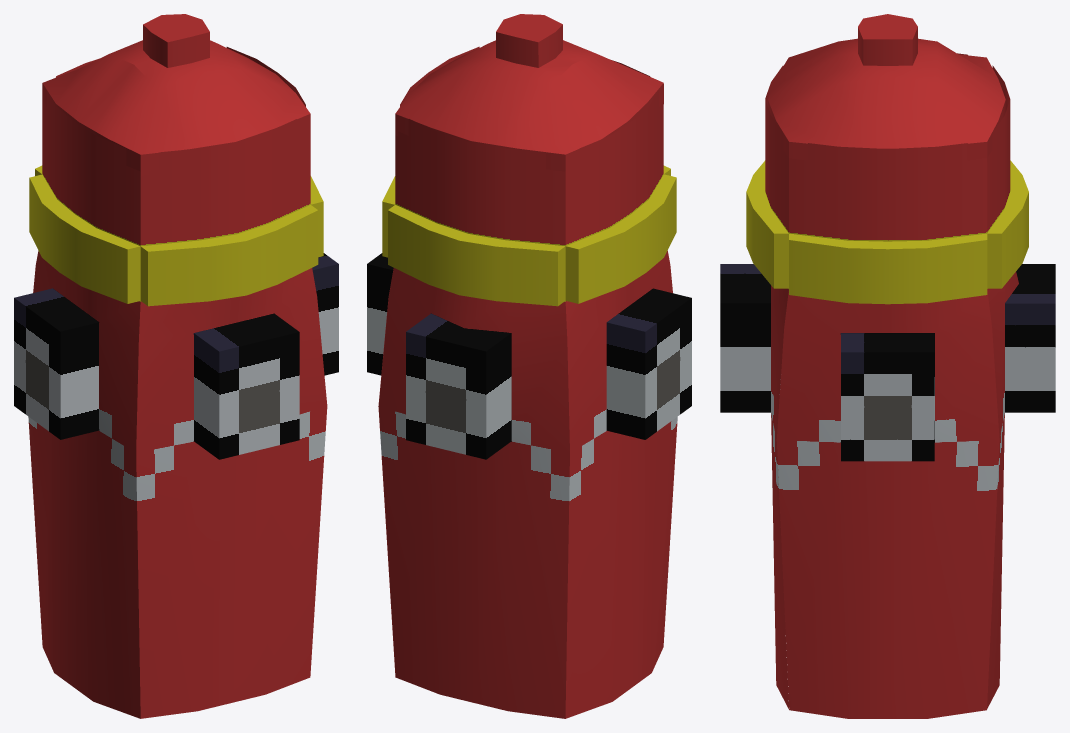
File: firehyrdrant3.glb
3 renders of one model, left to right at view 1: azimuth 30°, elevation 25°; view 2: azimuth 150°, elevation 25°; view 3: azimuth 270°, elevation 25°, orthographic.
Visible parts, largest first — view 1: Firehydrant1.001; view 2: Firehydrant1.001; view 3: Firehydrant1.001.
Boxes of the visible parts, x1,y1,x2,y2 form: Firehydrant1.001: [14, 14, 338, 718]; Firehydrant1.001: [367, 14, 691, 718]; Firehydrant1.001: [720, 14, 1055, 718].
Size of the model in its own units: 0.3754 by 0.8203 by 0.3885.
Materials: 5 (5 with a texture image).
